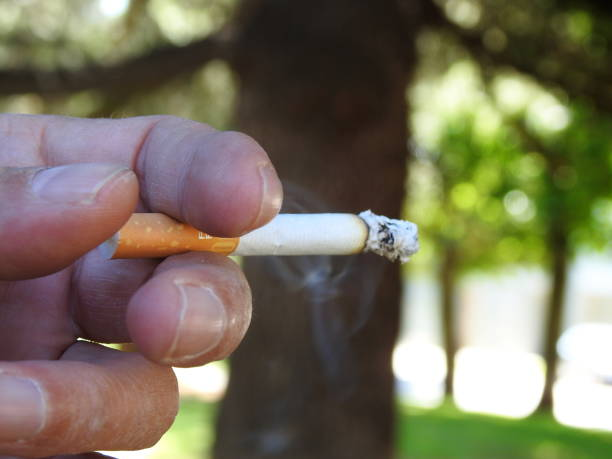cigarette: (92, 213, 422, 263)
